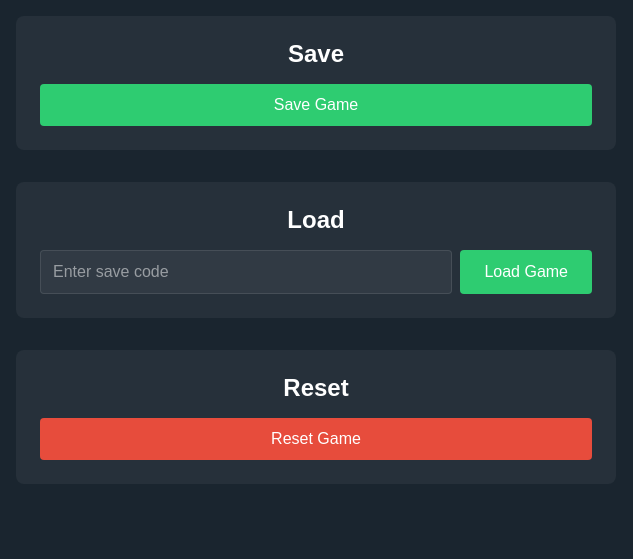
Test: SaveLoadView › Load Game › should show error for empty save code
This screenshot has width=633, height=559.
Click the button with class "load-button". click: (526, 272)
box: [460,250,592,294]
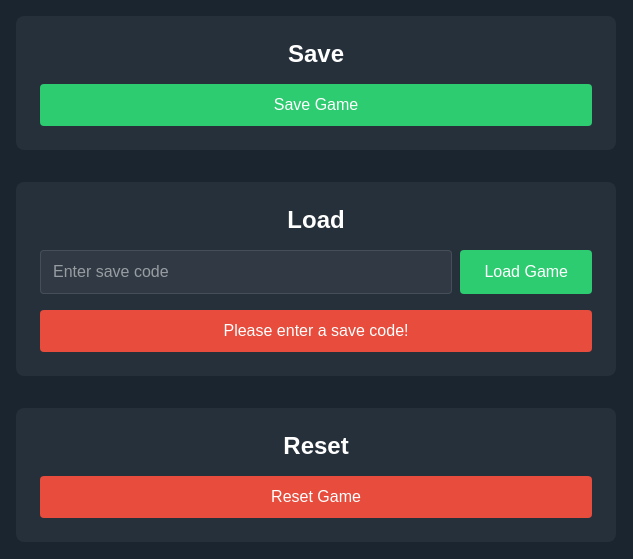
Result: the text with class "message" reads "Please enter a save code!" at [224,322,408,339]
